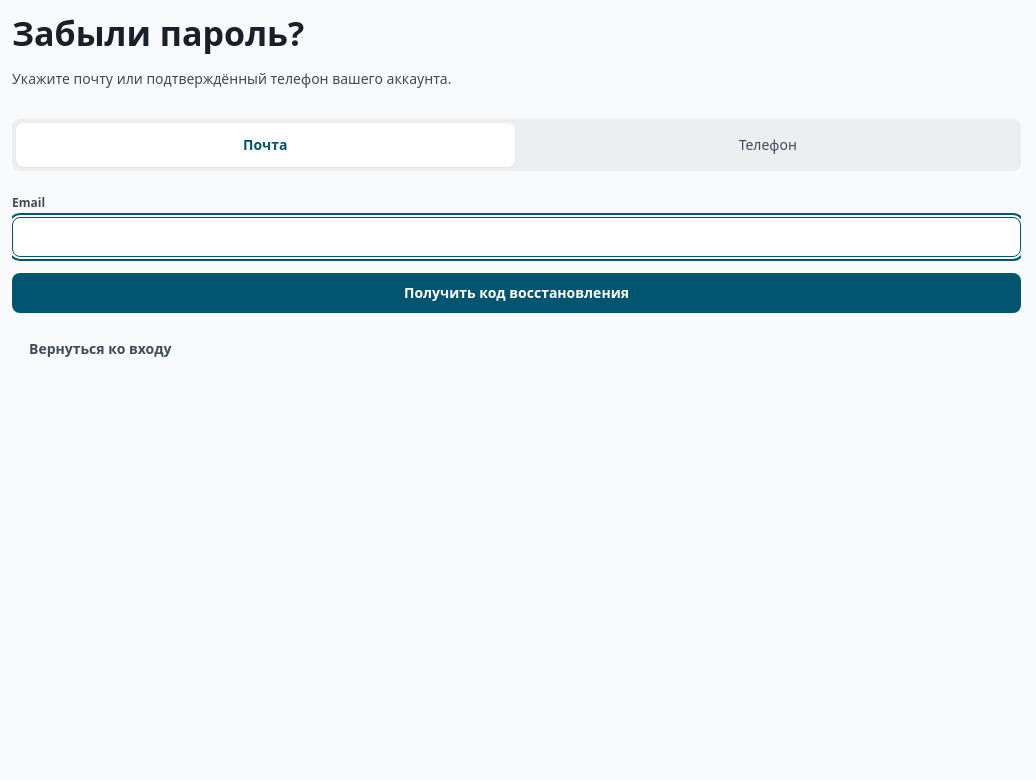
password recovery › uses a generic delivery notice and requires matching passwords before any reset
Type "account@example.test" into the field labelled "Email" at {"x": 516, "y": 236}, box top-left (12, 216), bottom-right (1021, 256)
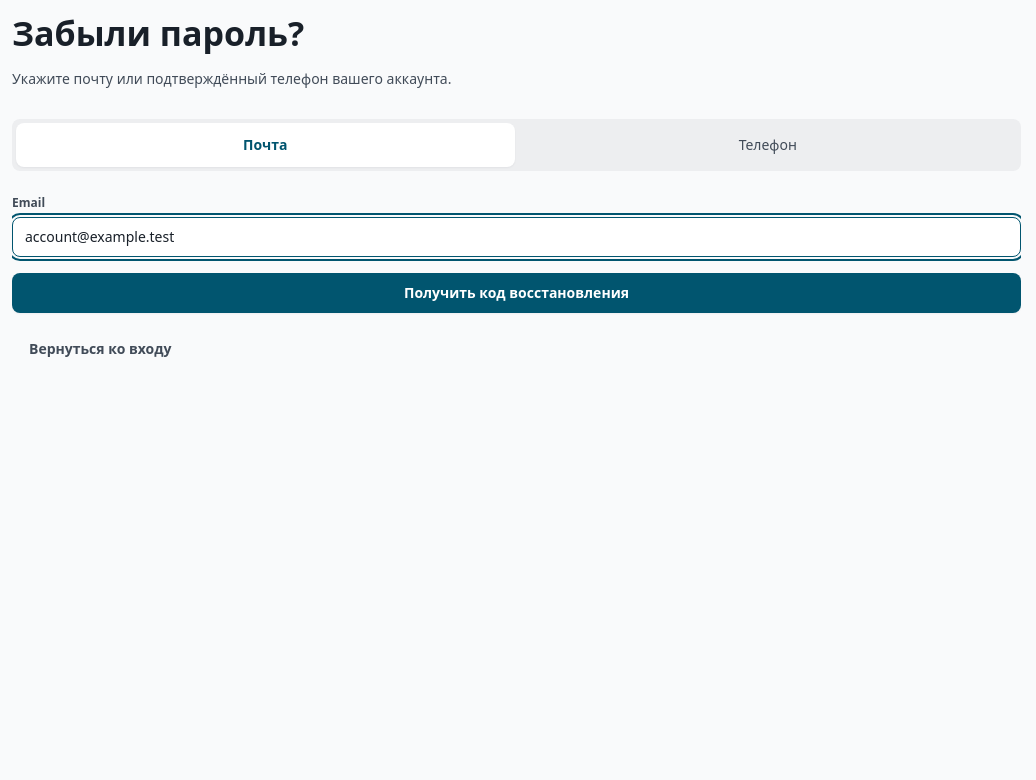
Submit the form "Получить код восстановления", box top-left (12, 194), bottom-right (1021, 312)
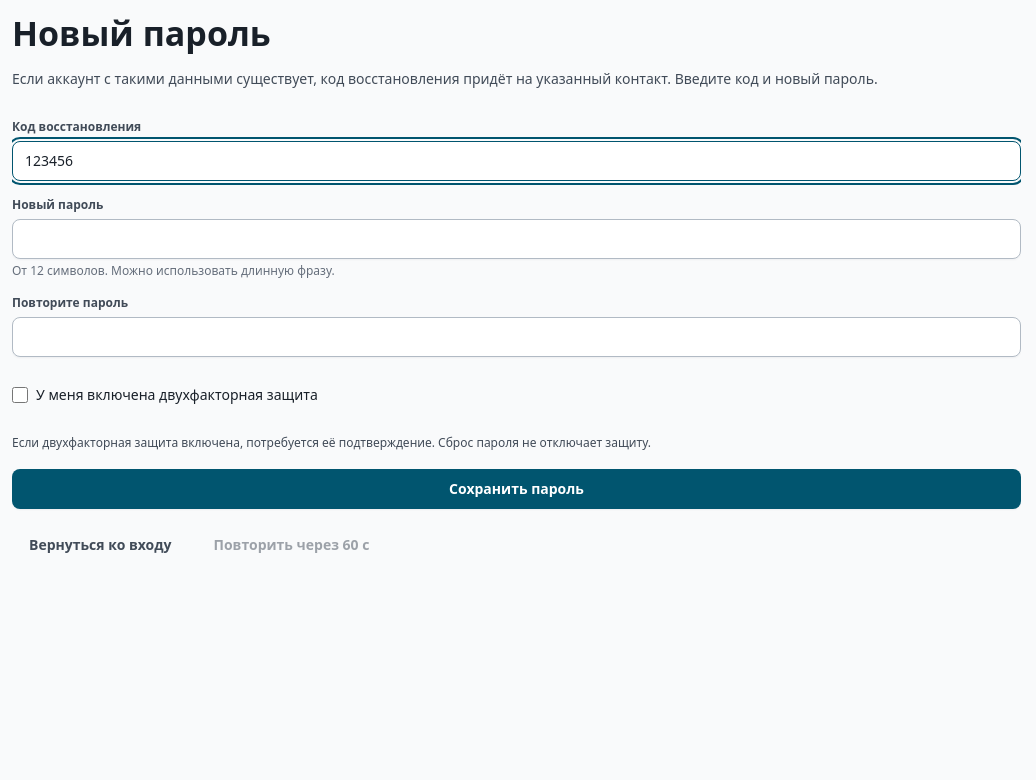
expect the field labelled "Код восстановления" is shown: met, box top-left (12, 140), bottom-right (1021, 180)
expect the text "Если аккаунт с такими данными существует" is shown: met, box top-left (12, 68), bottom-right (878, 88)
Type "new-password-long" into the password field labelled "Новый пароль" at {"x": 516, "y": 238}, box top-left (12, 218), bottom-right (1021, 258)
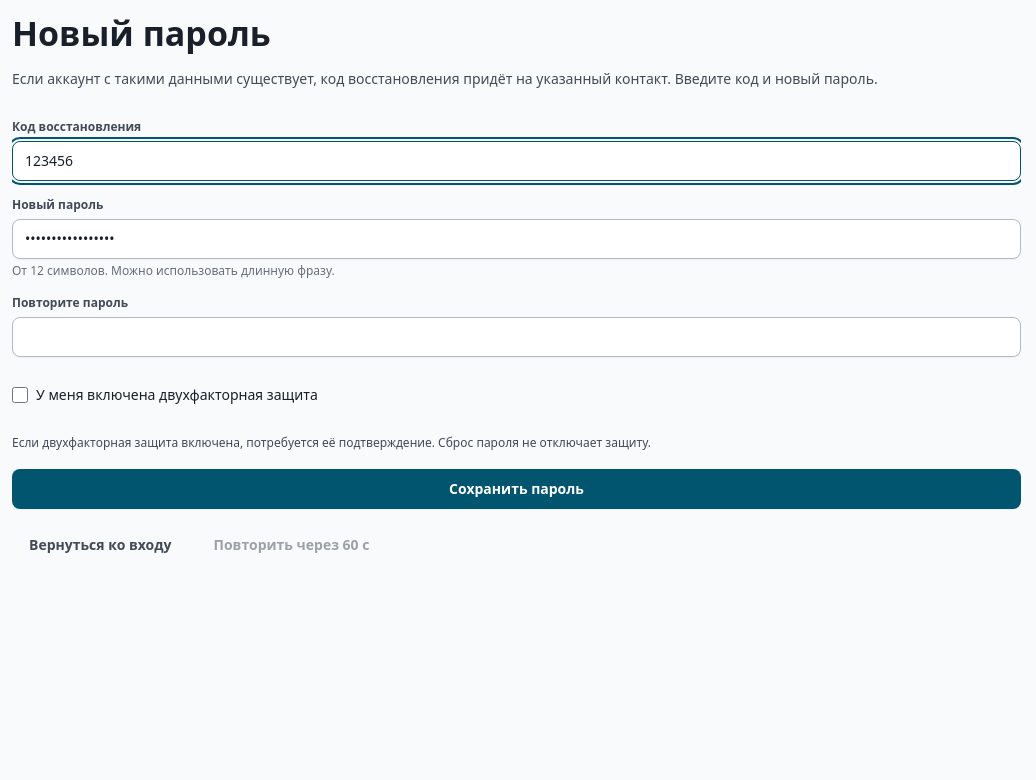
Type "different-password" into the password field labelled "Повторите пароль" at {"x": 516, "y": 336}, box top-left (12, 316), bottom-right (1021, 356)
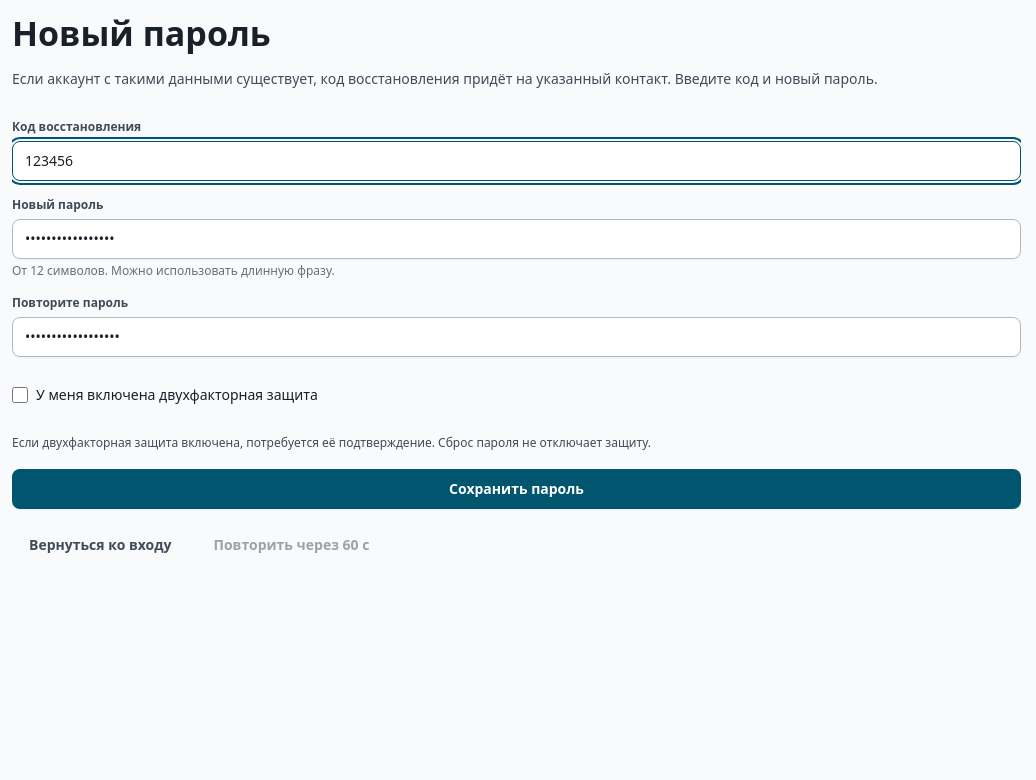
Submit the form named "Получить код восстановления", box top-left (12, 118), bottom-right (1021, 508)
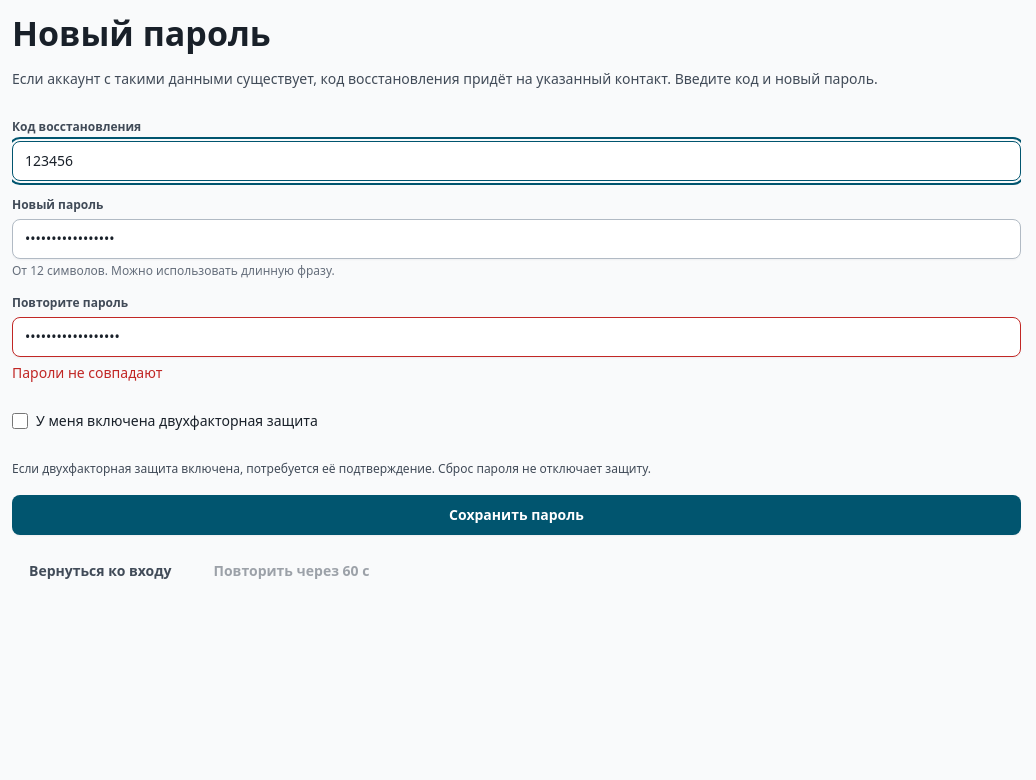
expect the text "Пароли не совпадают" is shown: met, box top-left (12, 362), bottom-right (162, 382)
